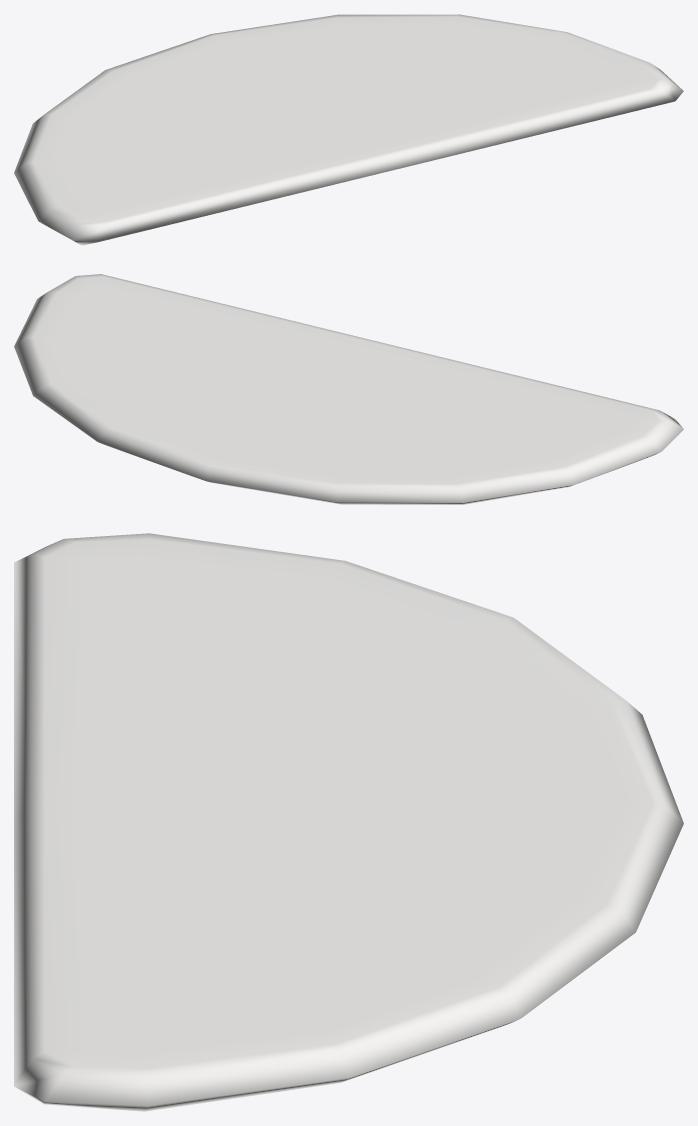
The model's file is P_RugSmallHalfCircle.glb.
3 views of the same model, one above another, from view 1: azimuth 30°, elevation 25°; view 2: azimuth 150°, elevation 25°; view 3: azimuth 270°, elevation 25° (orthographic). The views are drawn at different scales.
Parts seen in each view (by area): view 1: P_RugSmallHalfCircle; view 2: P_RugSmallHalfCircle; view 3: P_RugSmallHalfCircle.
Part boxes in pixels (<box>): P_RugSmallHalfCircle: <box>14,14,683,245</box>; P_RugSmallHalfCircle: <box>14,274,683,504</box>; P_RugSmallHalfCircle: <box>14,533,683,1111</box>.
Bounding box in the file's own units: 1.49 × 0.0405 × 0.75.
1 material, 1 textured.
